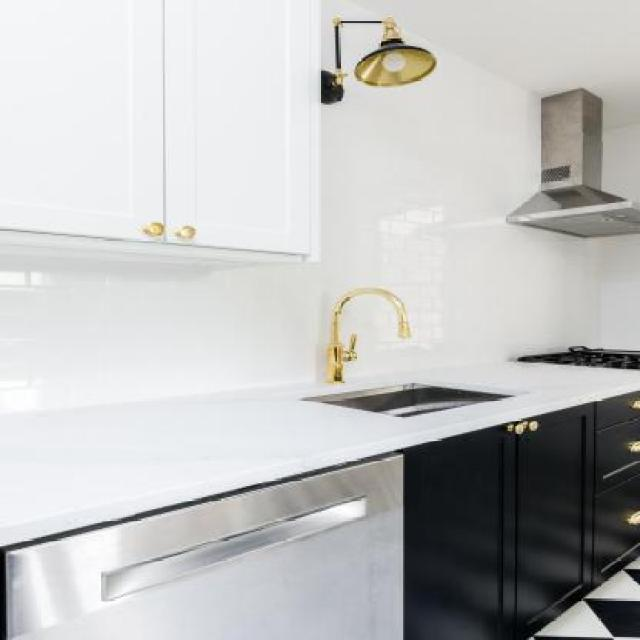Floor: (530, 558, 640, 639)
